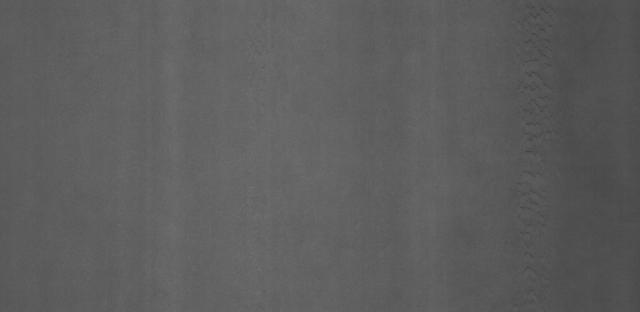silk_spot: (505, 20, 575, 204)
